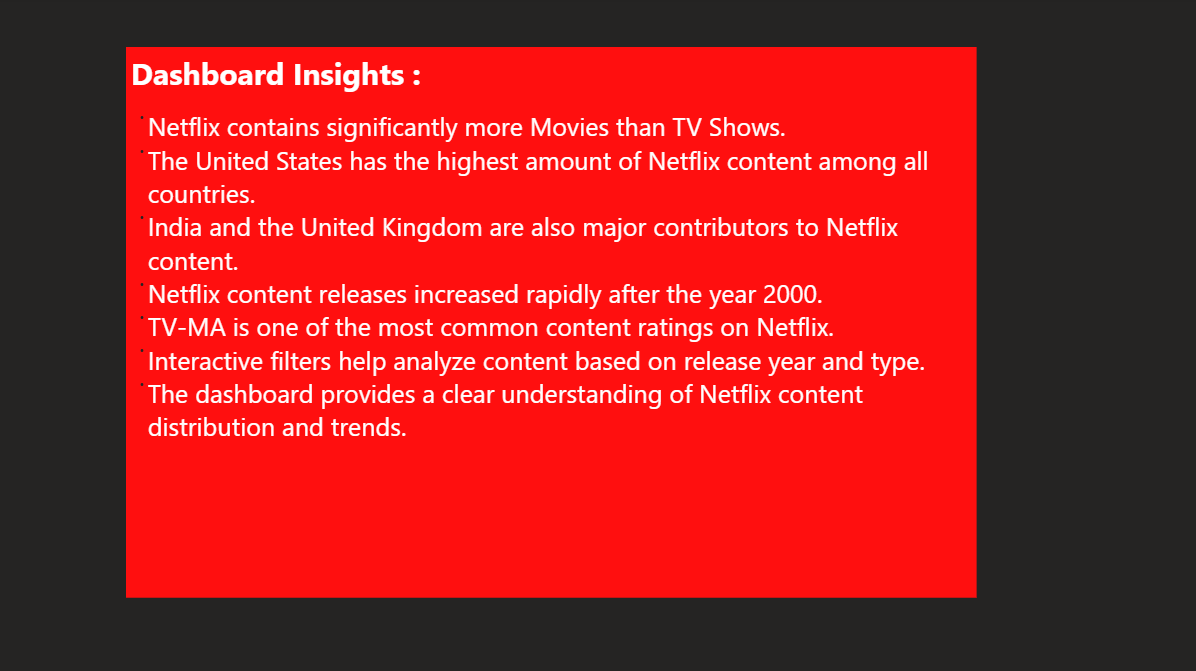

What the dashboard file says about the page in this screenshot:
{"tool":"powerbi","page":{"name":"Insights","canvas":[1280,720],"ordinal":1},"visuals":[{"type":"textbox","box":[140,54.1,901.9,583.8],"z":0}]}

Visuals, with their boxes in screenshot pixels (x1, y1, x2, y2), scaled from the page's 1280x720 canvas onto the 1196x671 screenshot:
textbox: {"x1": 131, "y1": 50, "x2": 974, "y2": 594}
